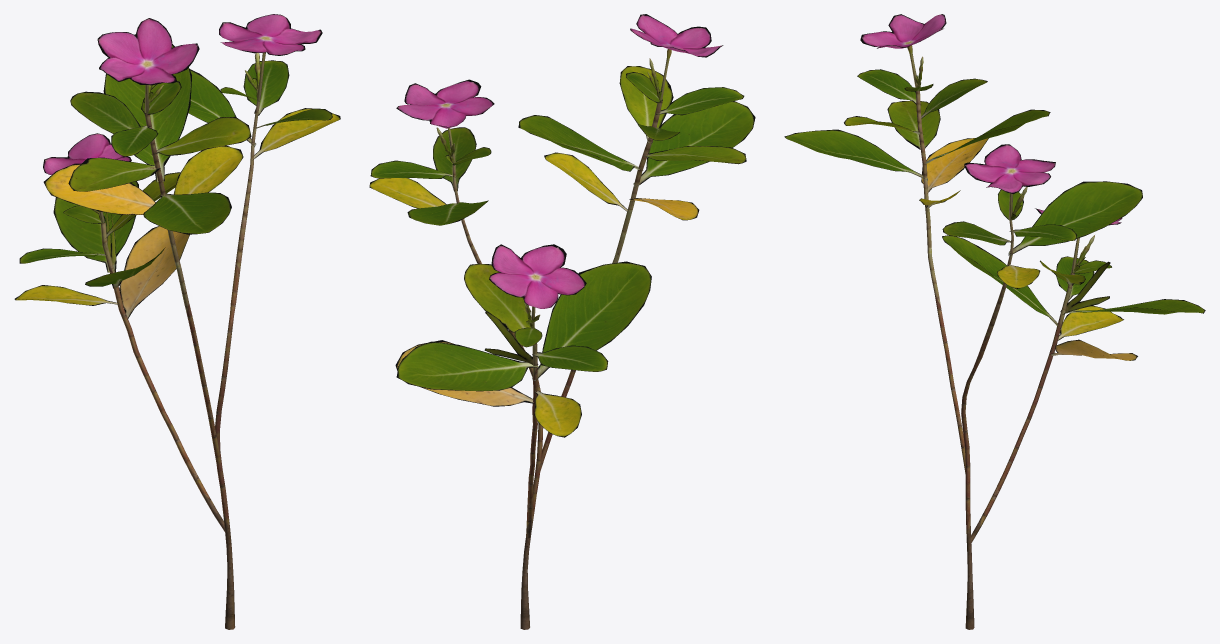
Rendered from periwinkle_plant_02.glb.
The picture shows the model from 3 angles, left to right: view 1: azimuth 30°, elevation 25°; view 2: azimuth 150°, elevation 25°; view 3: azimuth 270°, elevation 25°; orthographic projection. The views are drawn at different scales.
Visible parts, largest first — view 1: periwinkle_plant; view 2: periwinkle_plant; view 3: periwinkle_plant.
Boxes of the visible parts, bbox=[...] form: periwinkle_plant: bbox=[14, 14, 340, 629]; periwinkle_plant: bbox=[369, 14, 755, 629]; periwinkle_plant: bbox=[784, 14, 1205, 629].
Bounding box in the file's own units: 0.1111 × 0.2058 × 0.1409.
1 material, 1 textured.
